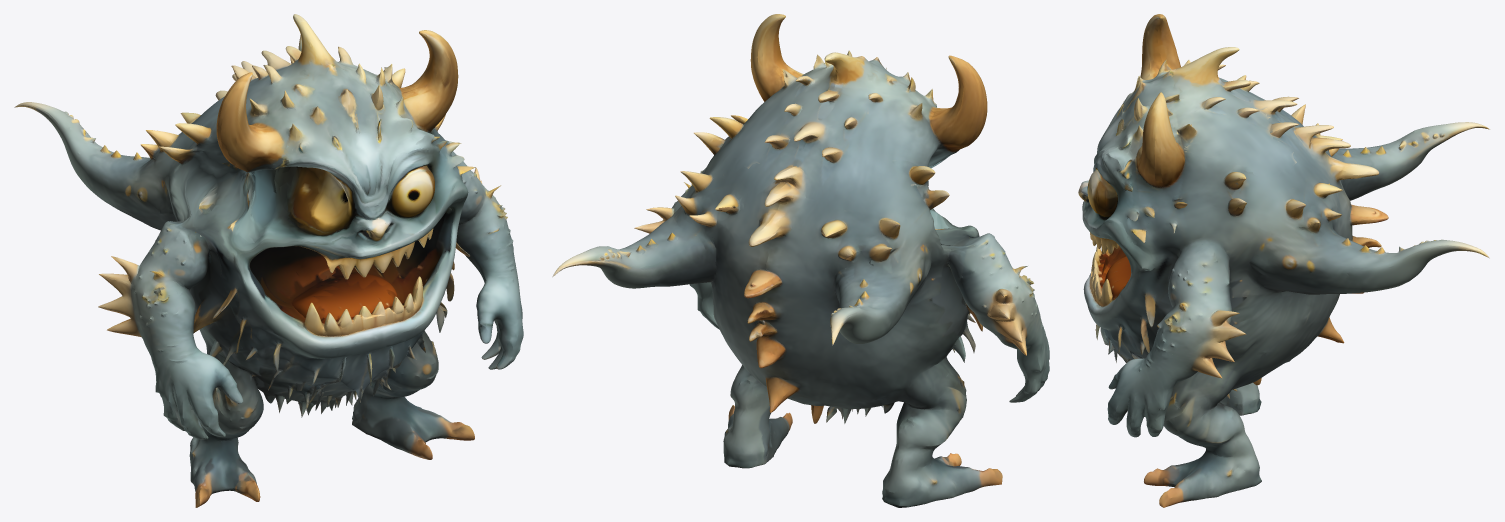
File: Monster_dead1.fbx
The picture shows the model from 3 angles, left to right: view 1: azimuth 30°, elevation 25°; view 2: azimuth 150°, elevation 25°; view 3: azimuth 270°, elevation 25°; orthographic projection. The views are drawn at different scales.
Parts seen in each view (by area): view 1: model; view 2: model; view 3: model.
Boxes of the visible parts, box(x1,y1,x2,y2) form: model: box(14, 14, 523, 507); model: box(552, 14, 1049, 507); model: box(1078, 14, 1490, 507).
Size of the model in its own units: 244 by 254 by 237.
